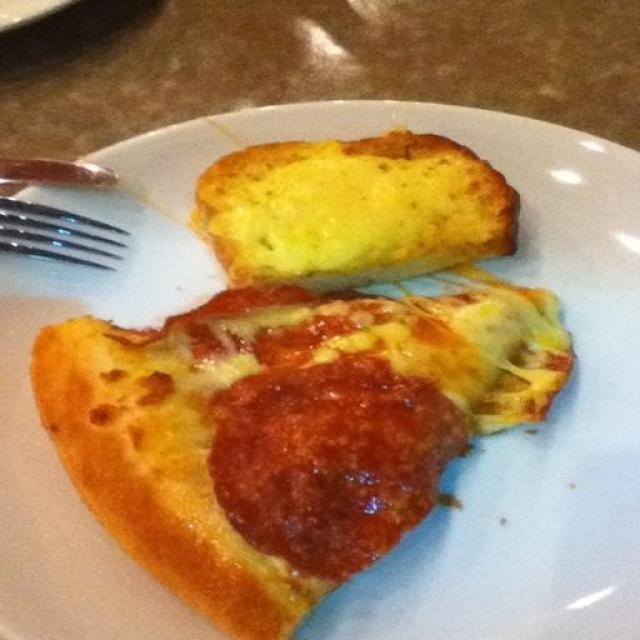Pepperoni: (221, 374, 476, 572)
Pizza: (30, 284, 575, 640)
